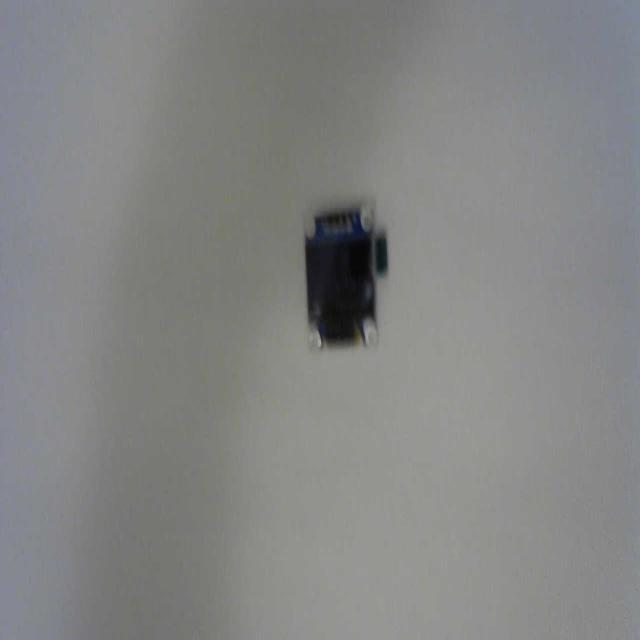oled: (300, 207, 390, 351)
